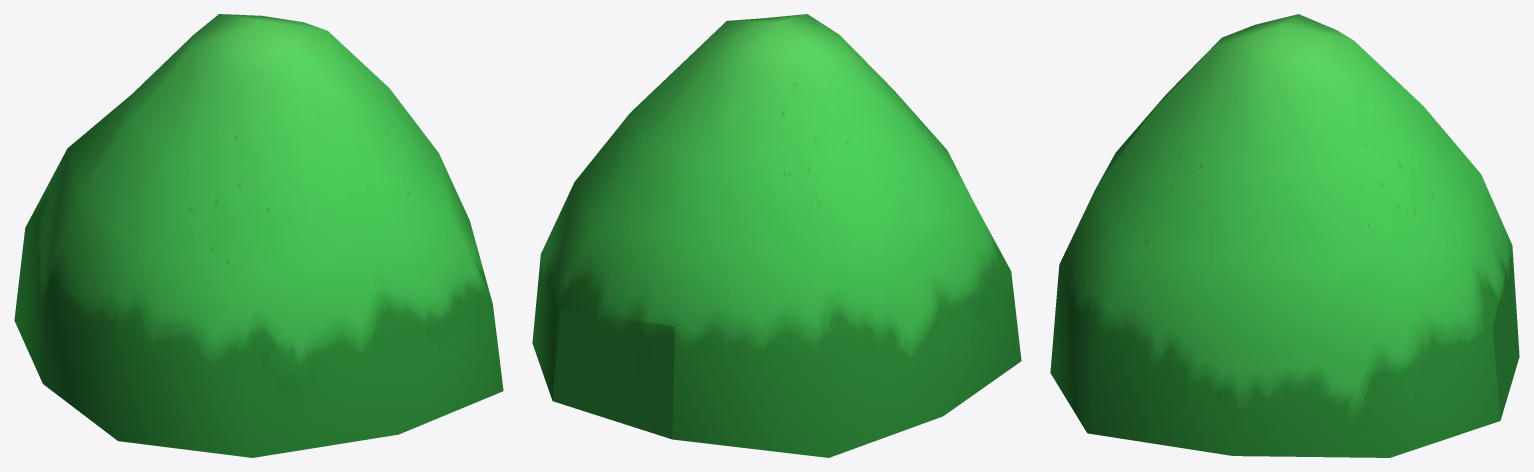
File: french_bushes_01.glb
The picture shows the model from 3 angles, left to right: view 1: azimuth 30°, elevation 25°; view 2: azimuth 150°, elevation 25°; view 3: azimuth 270°, elevation 25°; orthographic projection.
Visible parts, largest first — view 1: french_trees:pSphere238; view 2: french_trees:pSphere238; view 3: french_trees:pSphere238.
Part boxes in pixels (x1,y1,x2,y2): french_trees:pSphere238: [14, 14, 503, 457]; french_trees:pSphere238: [532, 14, 1021, 457]; french_trees:pSphere238: [1050, 14, 1519, 457].
Bounding box in the file's own units: 1.44 × 1.18 × 1.49.
Materials: 1 (1 with a texture image).
